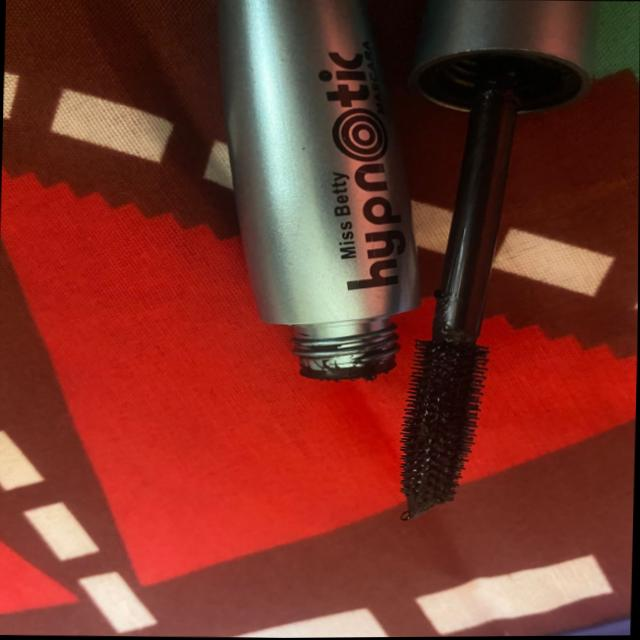mascara: (204, 0, 409, 404), (372, 310, 512, 535)
